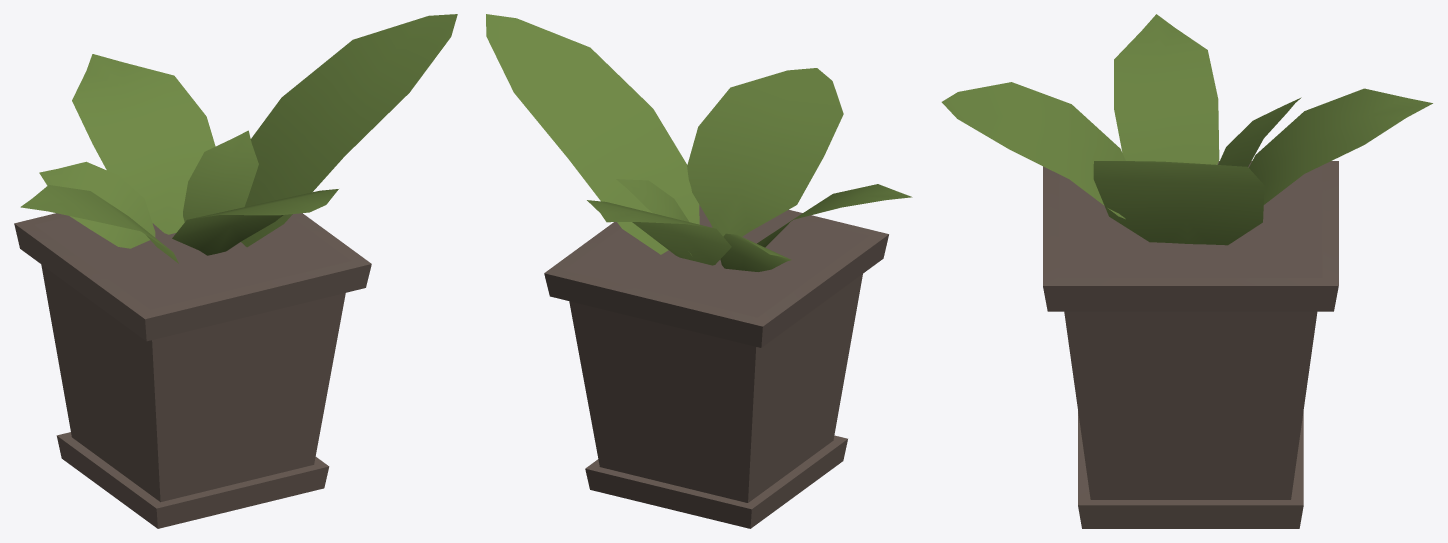
File: Plant.fbx
The picture shows the model from 3 angles, left to right: view 1: azimuth 30°, elevation 25°; view 2: azimuth 150°, elevation 25°; view 3: azimuth 270°, elevation 25°; orthographic projection. The views are drawn at different scales.
Visible parts, largest first — view 1: Plant; view 2: Plant; view 3: Plant.
Part boxes in pixels (x1,y1,x2,y2): Plant: [14, 14, 457, 528]; Plant: [486, 14, 912, 528]; Plant: [941, 14, 1432, 528].
Bounding box in the file's own units: 2.19 × 1.93 × 1.87.
